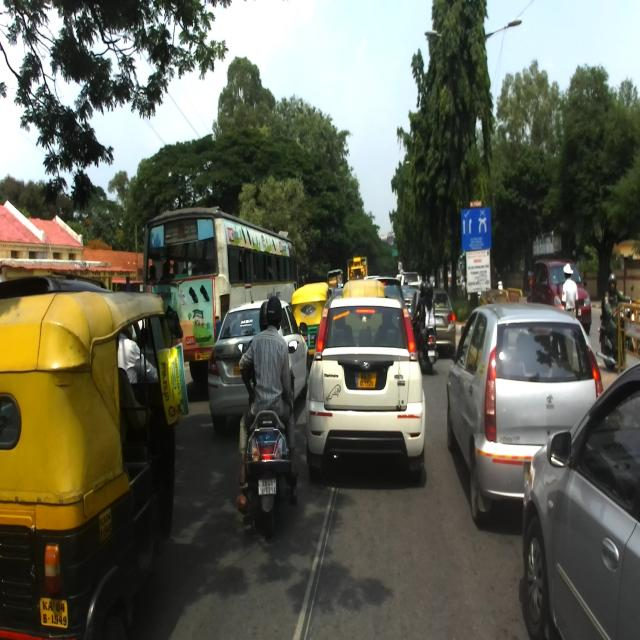autorickshaw: (0, 288, 180, 639)
bus: (140, 205, 302, 384)
car: (446, 303, 604, 524), (521, 359, 640, 640), (306, 293, 426, 485), (206, 290, 310, 434), (527, 258, 592, 336)
motorcycle: (596, 281, 636, 370)
scooter: (236, 340, 298, 540)
